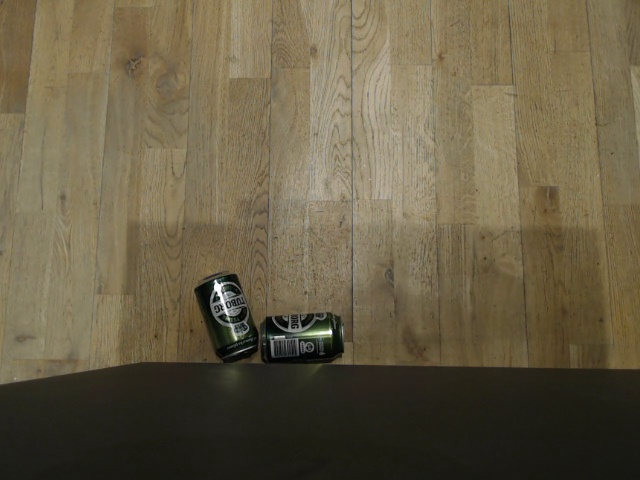beer: (194, 268, 258, 362), (260, 312, 344, 363)
